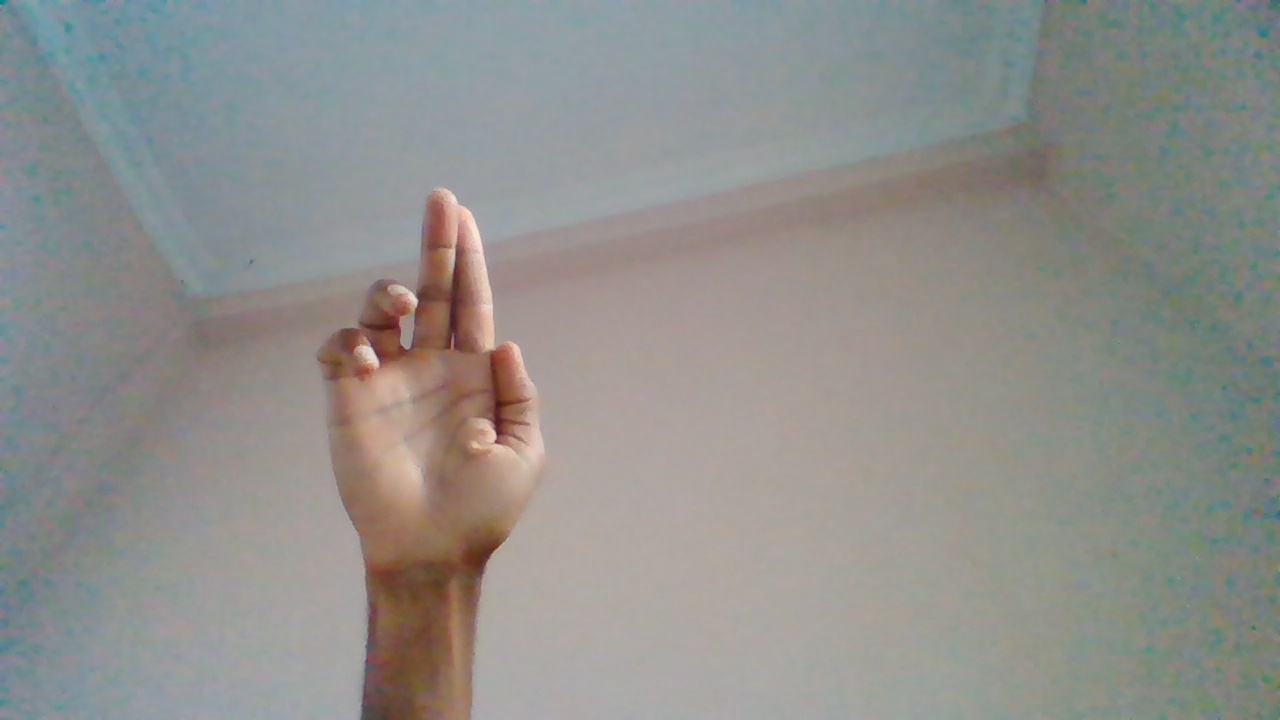gne: (311, 186, 539, 662)
